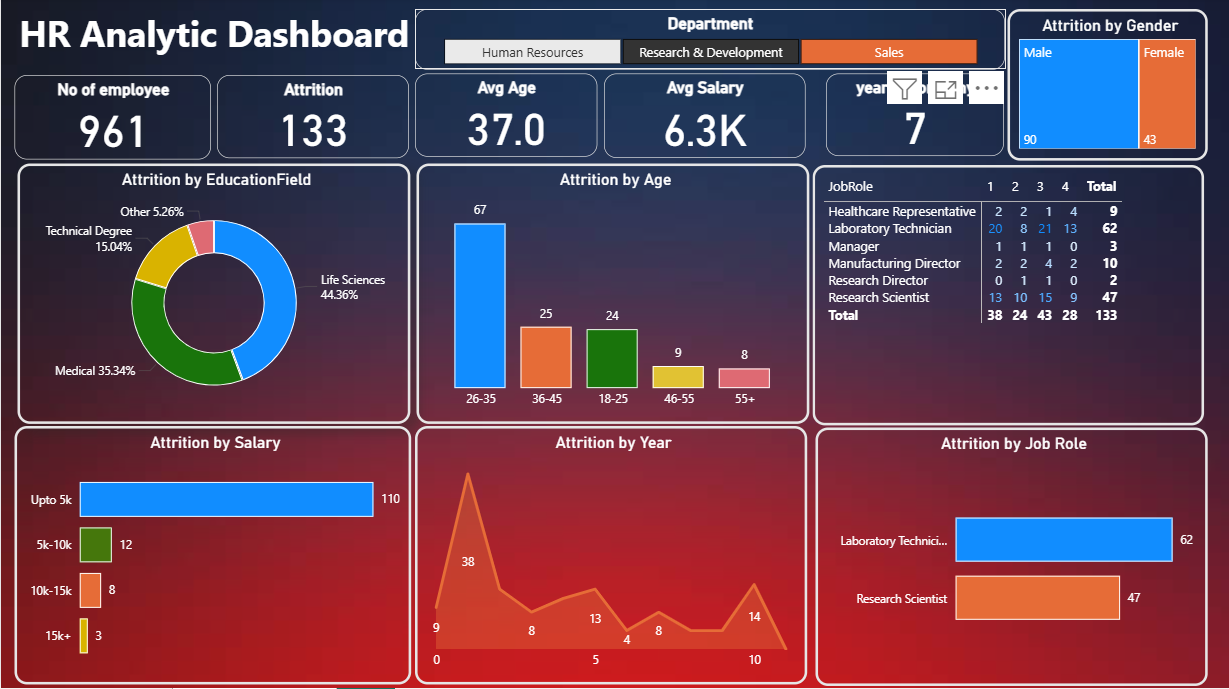

This screenshot's page, from the dashboard's own definition file:
{"tool":"powerbi","page":{"name":"HR Analytics","canvas":[1280,720],"ordinal":0},"visuals":[{"type":"card","title":"No of employee","fields":{"Values":["CountNonNull(HR_Analytics.EmpID)"]},"box":[13.7,80.7,204.8,88.1],"z":0},{"type":"card","title":"Attrition","fields":{"Values":["Sum(HR_Analytics.Attrition_Count)"]},"box":[224.7,80.7,199.9,86.9],"z":1000},{"type":"card","title":"Avg Age","fields":{"Values":["Avg(HR_Analytics.Age)"]},"box":[432,79.5,190,86.9],"z":2000},{"type":"card","title":"Avg Salary","fields":{"Values":["Avg(HR_Analytics.MonthlyIncome)"]},"box":[628.2,79.5,209.8,88.1],"z":3000},{"type":"card","title":"year at company","fields":{"Values":["Avg(HR_Analytics.YearsAtCompany)"]},"box":[859.9,79.8,185.2,85.8],"z":4000},{"type":"donutChart","title":"Attrition by EducationField","fields":{"Category":["HR_Analytics.EducationField"],"Y":["Sum(HR_Analytics.Attrition_Count)"]},"box":[16.6,173.2,409.6,271.1],"z":5000},{"type":"columnChart","title":"Attrition by Age","fields":{"Category":["HR_Analytics.AgeGroup"],"Y":["Sum(HR_Analytics.Attrition_Count)"]},"box":[433.7,173.2,409.6,271.1],"z":6000},{"type":"pivotTable","title":"Attrition by EducationField","fields":{"Rows":["HR_Analytics.JobRole"],"Columns":["HR_Analytics.JobSatisfaction"],"Values":["Sum(HR_Analytics.Attrition_Count)"]},"box":[846.3,174.7,408.1,271.1],"z":7000},{"type":"clusteredBarChart","title":"Attrition by Salary","fields":{"Category":["HR_Analytics.SalarySlab"],"Y":["Sum(HR_Analytics.Attrition_Count)"]},"box":[13.7,446.9,413.4,269.4],"z":8000},{"type":"clusteredBarChart","title":"Attrition by Job Role","fields":{"Category":["HR_Analytics.JobRole"],"Y":["Sum(HR_Analytics.Attrition_Count)"]},"box":[848,448.2,408.5,269.4],"z":9000},{"type":"stackedAreaChart","title":"Attrition by Year","fields":{"Category":["HR_Analytics.YearsAtCompany"],"Y":["Sum(HR_Analytics.Attrition_Count)"]},"box":[432,446.9,408.5,269.4],"z":10000},{"type":"treemap","title":"Attrition by Gender","fields":{"Group":["HR_Analytics.Gender"],"Values":["Sum(HR_Analytics.Attrition_Count)"]},"box":[1049.1,12.4,208.6,157.7],"z":11000},{"type":"slicer","title":"Department","fields":{"Values":["HR_Analytics.Department"]},"box":[432,12.4,614.5,63.3],"z":12000},{"type":"textbox","box":[13.7,6.2,419.6,70.8],"z":13000}]}

Visuals, with their boxes in screenshot pixels (x1, y1, x2, y2), scaled from the page's 1280x720 canvas onto the 1229x689 screenshot:
"No of employee" card: BBox(13, 77, 210, 162)
"Attrition" card: BBox(216, 77, 408, 160)
"Avg Age" card: BBox(415, 76, 597, 159)
"Avg Salary" card: BBox(603, 76, 805, 160)
"year at company" card: BBox(826, 76, 1003, 158)
"Attrition by EducationField" donutChart: BBox(16, 166, 409, 425)
"Attrition by Age" columnChart: BBox(416, 166, 810, 425)
"Attrition by EducationField" pivotTable: BBox(813, 167, 1204, 427)
"Attrition by Salary" clusteredBarChart: BBox(13, 428, 410, 685)
"Attrition by Job Role" clusteredBarChart: BBox(814, 429, 1206, 687)
"Attrition by Year" stackedAreaChart: BBox(415, 428, 807, 685)
"Attrition by Gender" treemap: BBox(1007, 12, 1208, 163)
"Department" slicer: BBox(415, 12, 1005, 72)
textbox: BBox(13, 6, 416, 74)
